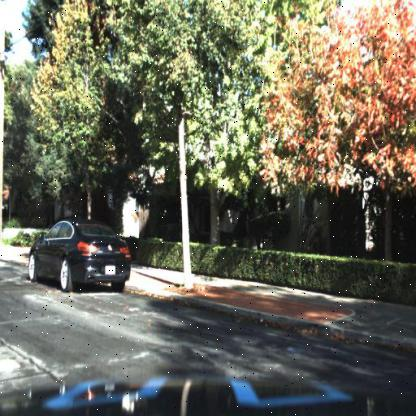car: (25, 214, 130, 300), (26, 217, 132, 296)
